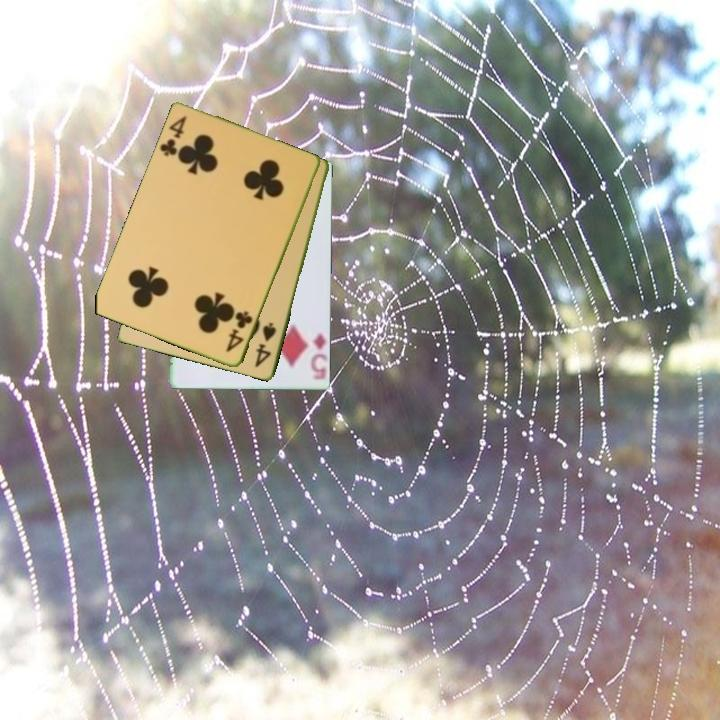4c: (156, 113, 190, 160), (223, 307, 256, 355)
4s: (252, 319, 279, 370)
5d: (308, 329, 329, 381)
